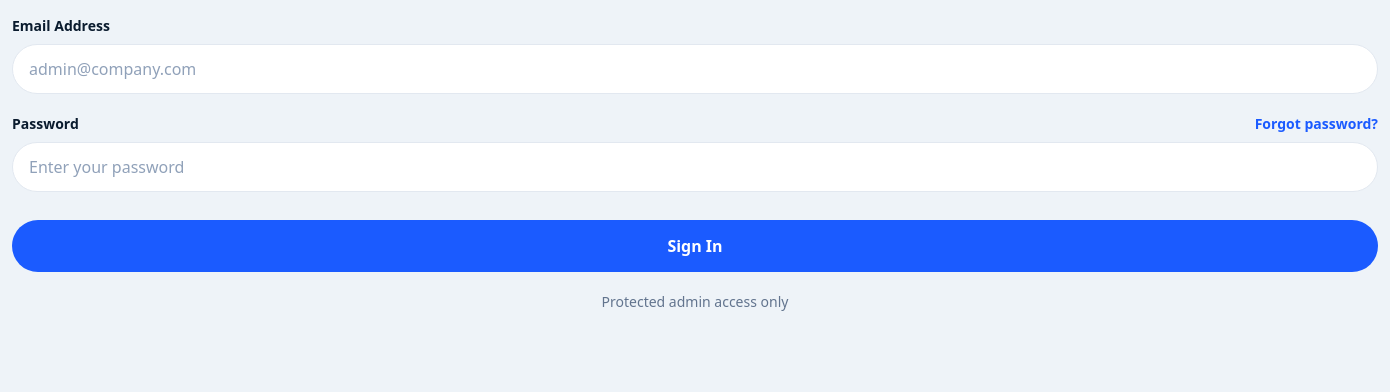
AdminLoginForm (US3.1 mandatory fields + error state) › announces the generic failure in a role=alert region after a failed submit
Type "admin@example.com" into the field labelled "Email Address" at (695, 69), box [12, 44, 1378, 94]
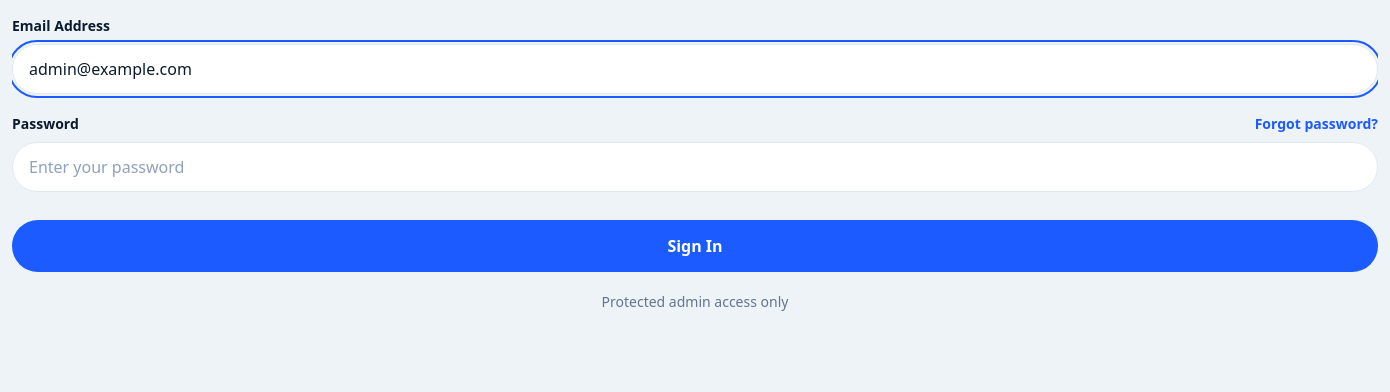
Type "wrong" into the password field labelled "Password" at (695, 167), box [12, 142, 1378, 192]
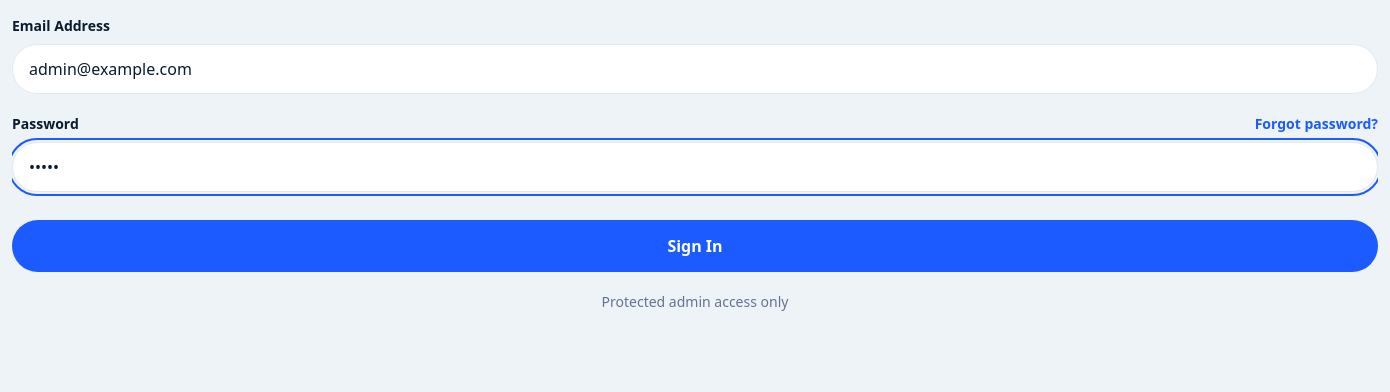
Click the button "Sign In" at (695, 246), box [12, 220, 1378, 272]
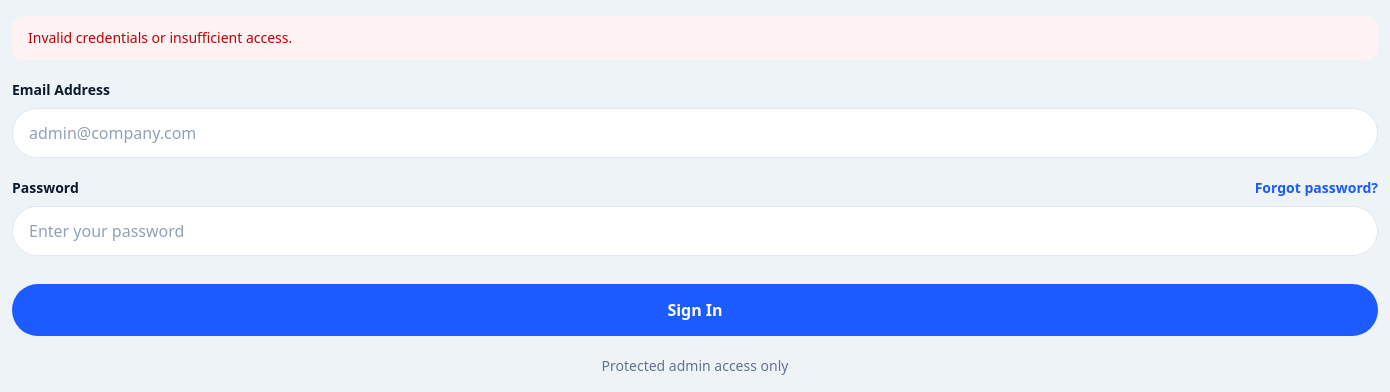
Now the message reads "Invalid credentials or insufficient access.", box [28, 28, 292, 47]
